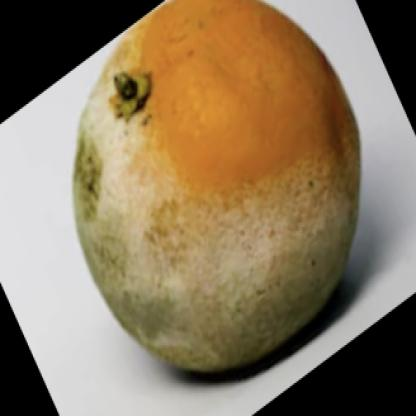rotten: (75, 1, 359, 378)
